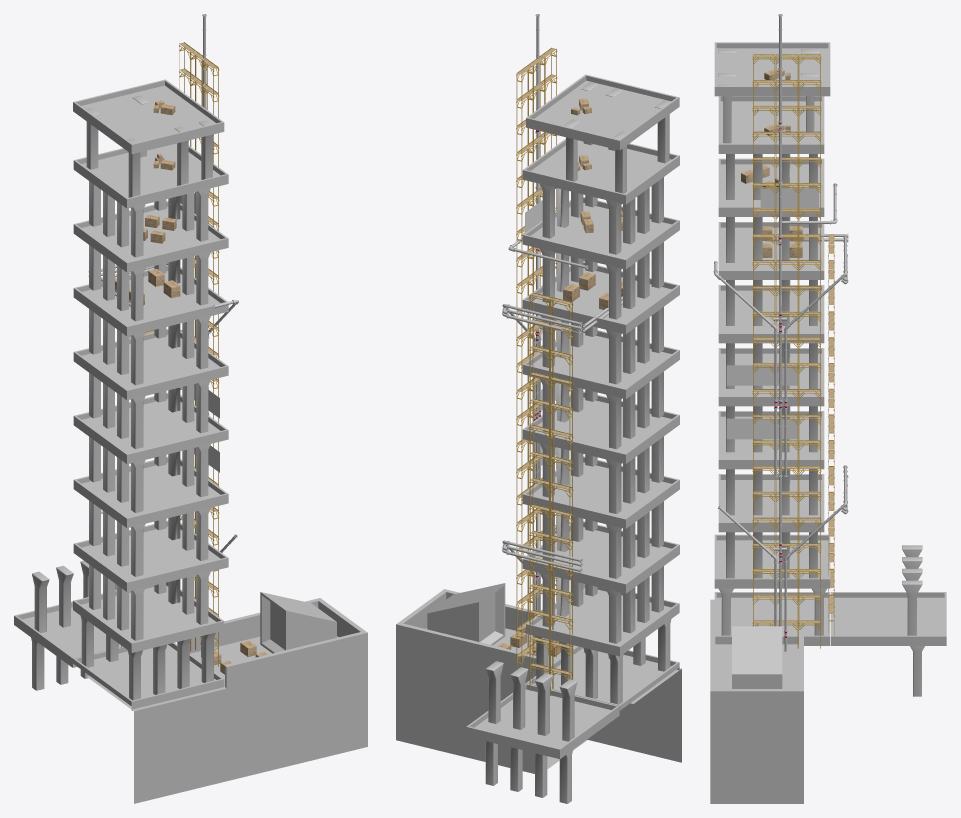
Rendered from Construction.fbx.
3 renders of one model, left to right at view 1: azimuth 30°, elevation 25°; view 2: azimuth 150°, elevation 25°; view 3: azimuth 270°, elevation 25°, orthographic. The views are drawn at different scales.
Parts seen in each view (by area): view 1: Hull, Scaffolds, Crates, Pipes, Signs; view 2: Hull, Scaffolds, Pipes, Crates, Signs; view 3: Hull, Scaffolds, Pipes, Signs, Crates.
Part boxes in pixels (x1,y1,x2,y2): Hull: [14, 79, 367, 803]; Scaffolds: [118, 42, 219, 666]; Crates: [115, 100, 267, 674]; Pipes: [88, 14, 238, 657]; Signs: [180, 193, 219, 472]; Hull: [396, 74, 681, 803]; Scaffolds: [516, 47, 573, 695]; Pipes: [502, 14, 622, 655]; Crates: [497, 98, 622, 656]; Signs: [525, 200, 570, 465]; Hull: [710, 42, 946, 803]; Scaffolds: [752, 54, 834, 648]; Pipes: [713, 14, 848, 651]; Signs: [726, 188, 818, 439]; Crates: [741, 69, 802, 257].
Bounding box in the file's own units: 3525 × 10498 × 3095.
